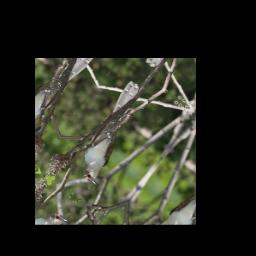Cuckoo: (63, 79, 163, 190)
